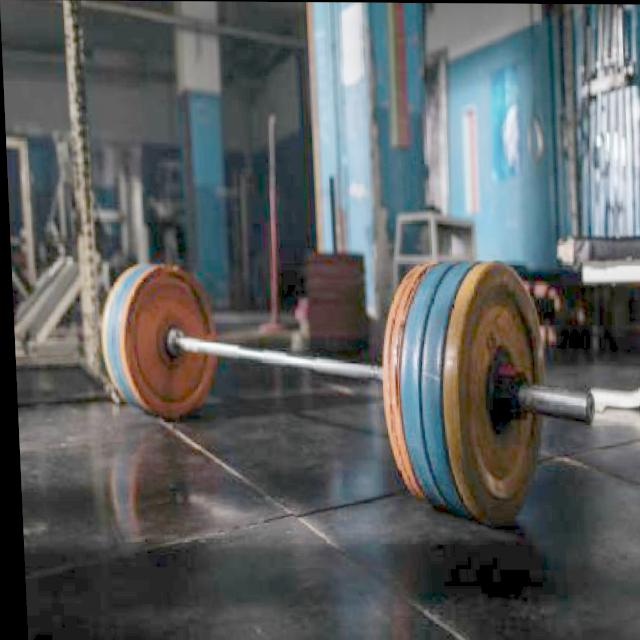barbell: (445, 255, 608, 523)
